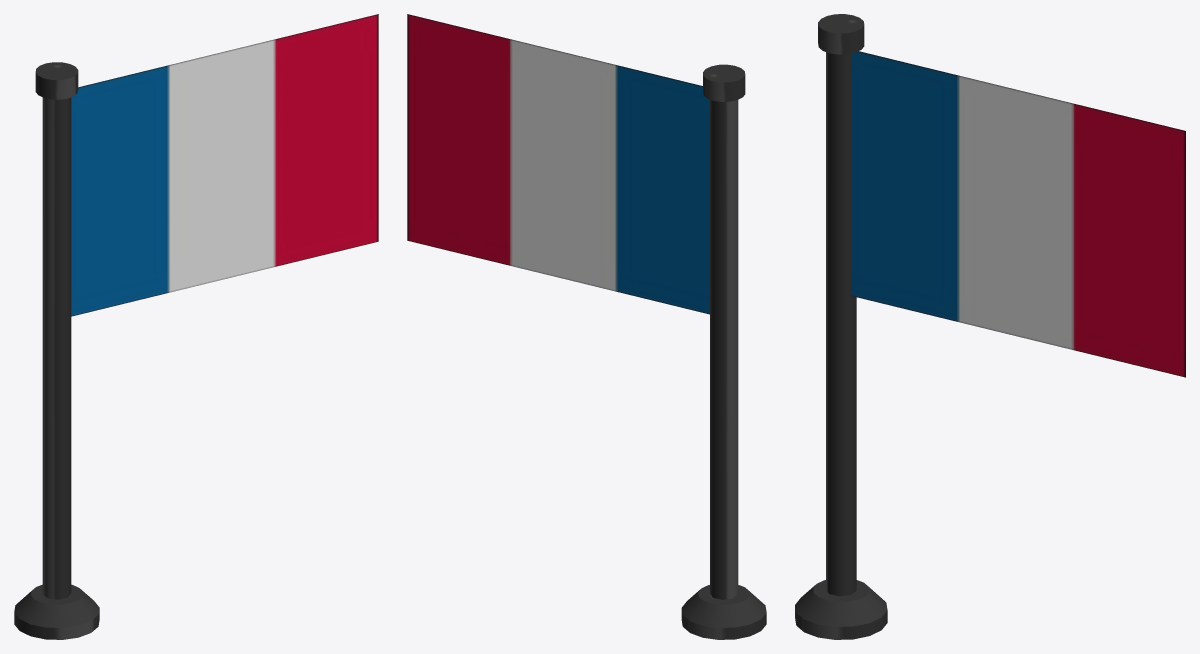
Rendered from flag_FR.FBX.
3 renders of one model, left to right at view 1: azimuth 30°, elevation 25°; view 2: azimuth 150°, elevation 25°; view 3: azimuth 330°, elevation 25°, orthographic. The views are drawn at different scales.
Parts seen in each view (by area): view 1: Box059; view 2: Box059; view 3: Box059.
Part boxes in pixels (x1,y1,x2,y2): Box059: (14, 14, 378, 639); Box059: (407, 14, 766, 639); Box059: (795, 14, 1185, 639).
Bounding box in the file's own units: 115 × 169 × 24.
